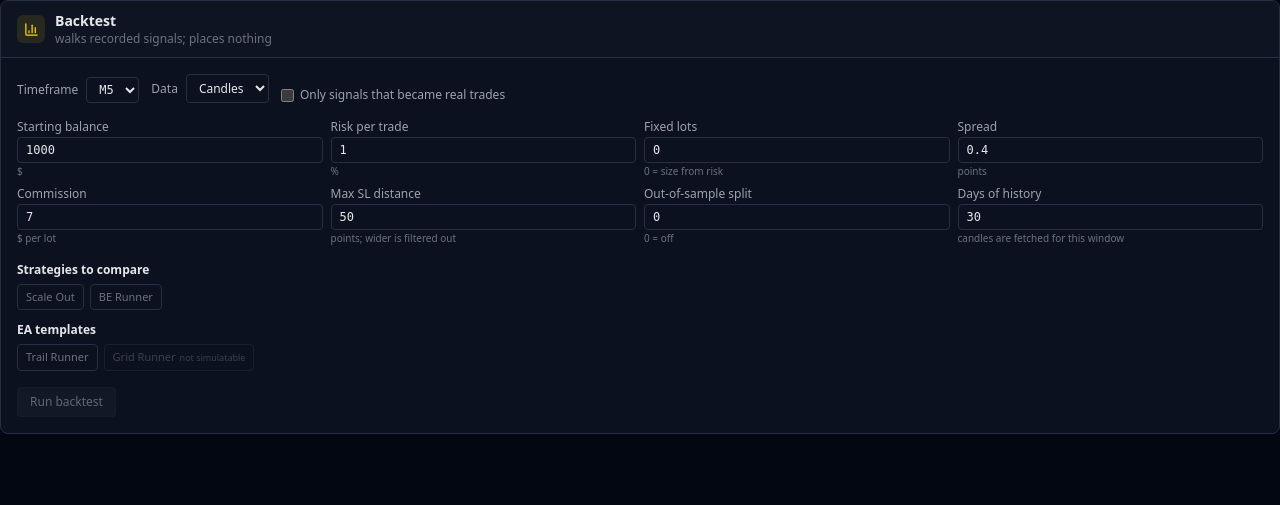
Test: when the backend refuses › shows the reason it gave
What coordinates should you click on to do the following:
click the button "Scale Out"
I would click on:
 (50, 297)
Its box is [17,284,84,310].
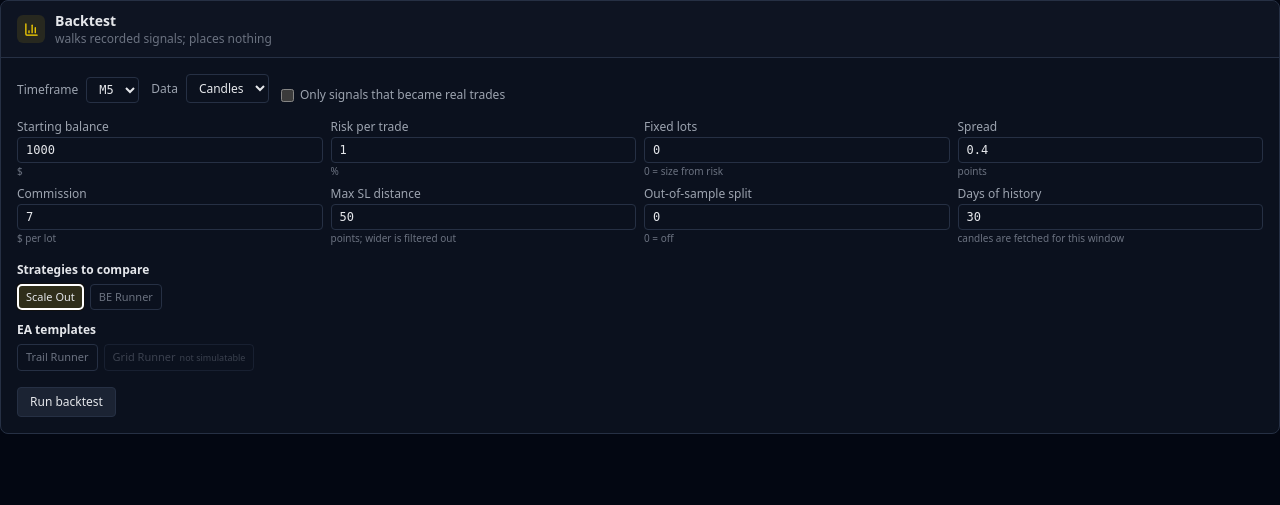
What coordinates should you click on to do the following:
click the button "Run backtest"
I would click on:
 (66, 402)
Its box is [17,387,116,417].
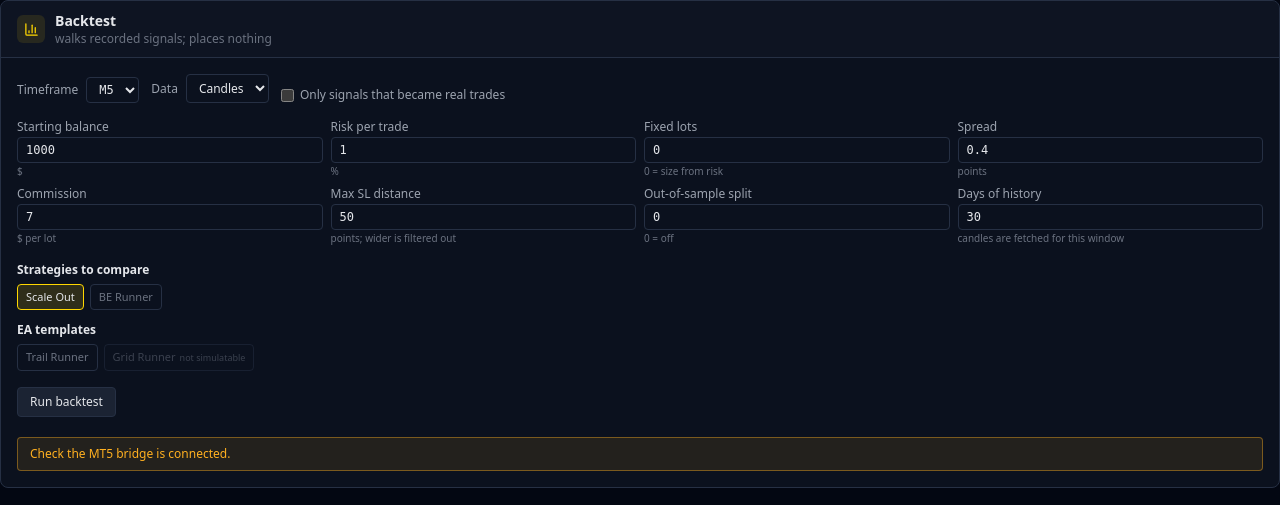
Now the message reads "Check the MT5 bridge is connected.", box [30,445,230,462]
